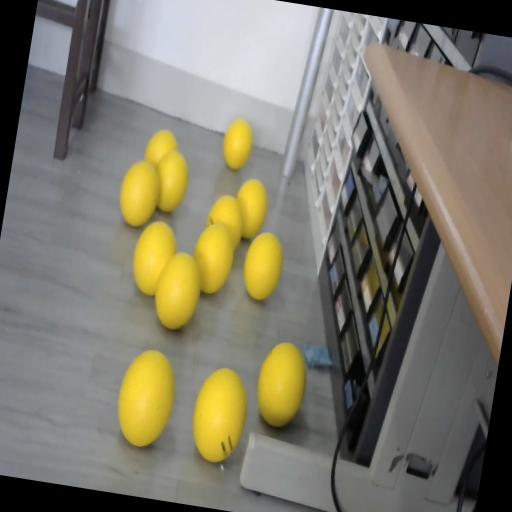FUEL: (110, 344, 180, 450), (186, 362, 254, 464), (252, 338, 312, 430), (128, 216, 180, 298), (187, 220, 239, 296), (238, 228, 288, 302), (114, 156, 164, 229), (150, 147, 192, 215), (230, 176, 271, 240), (218, 116, 256, 171)
